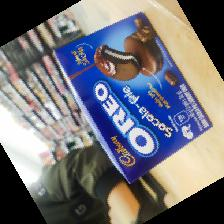Oreo: (52, 11, 214, 185)
